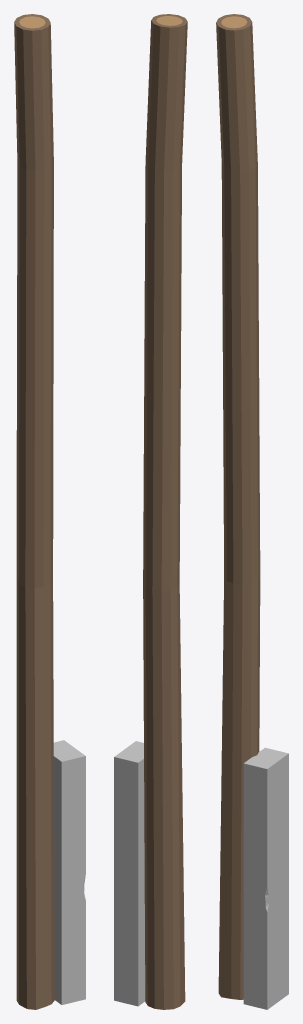
Rendered from Wh_Lamp_Post.fbx.
3 renders of one model, left to right at view 1: azimuth 30°, elevation 25°; view 2: azimuth 150°, elevation 25°; view 3: azimuth 330°, elevation 25°, orthographic.
Visible parts, largest first — view 1: Cylinder.032; view 2: Cylinder.032; view 3: Cylinder.032.
Part boxes in pixels (left/top/right/bottom): Cylinder.032: left=14, top=14, right=85, bottom=1009; Cylinder.032: left=114, top=14, right=187, bottom=1009; Cylinder.032: left=216, top=14, right=288, bottom=1009.
Bounding box in the file's own units: 44.39 × 701 × 28.15.
